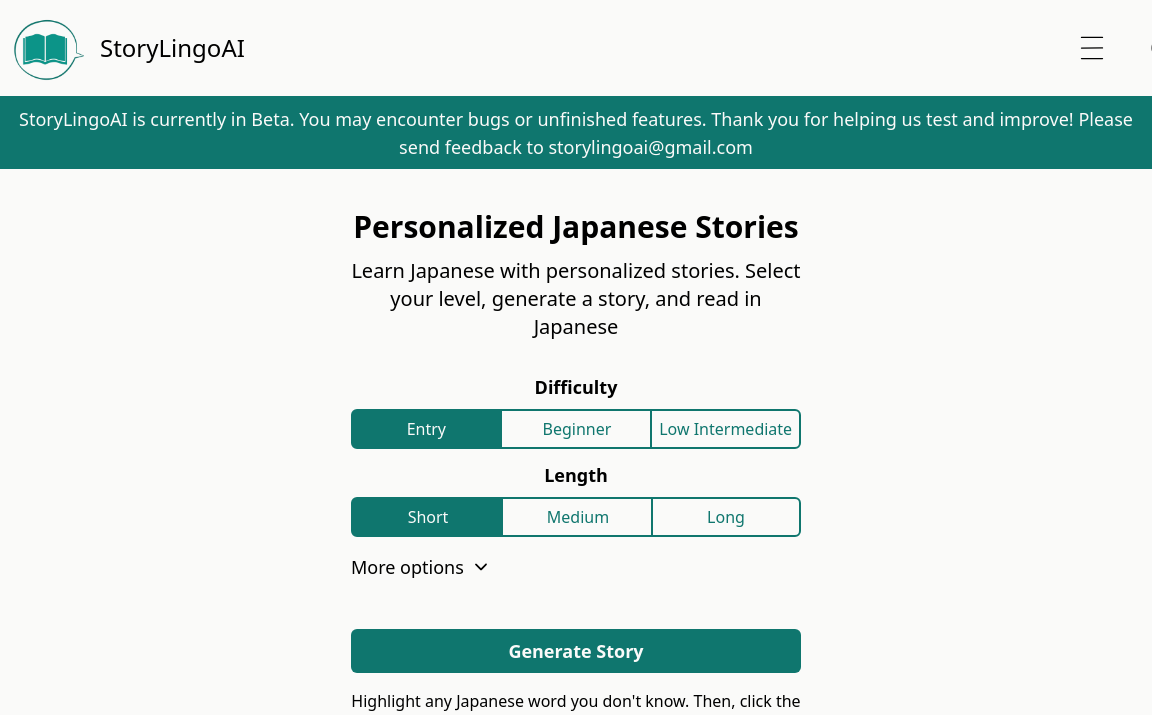
Test: Menu Options › x button closes words to learn modal
This screenshot has width=1152, height=715.
Step 1. Click the element with id "menu-burger-id" → (1092, 48), box [1077,33,1107,63]
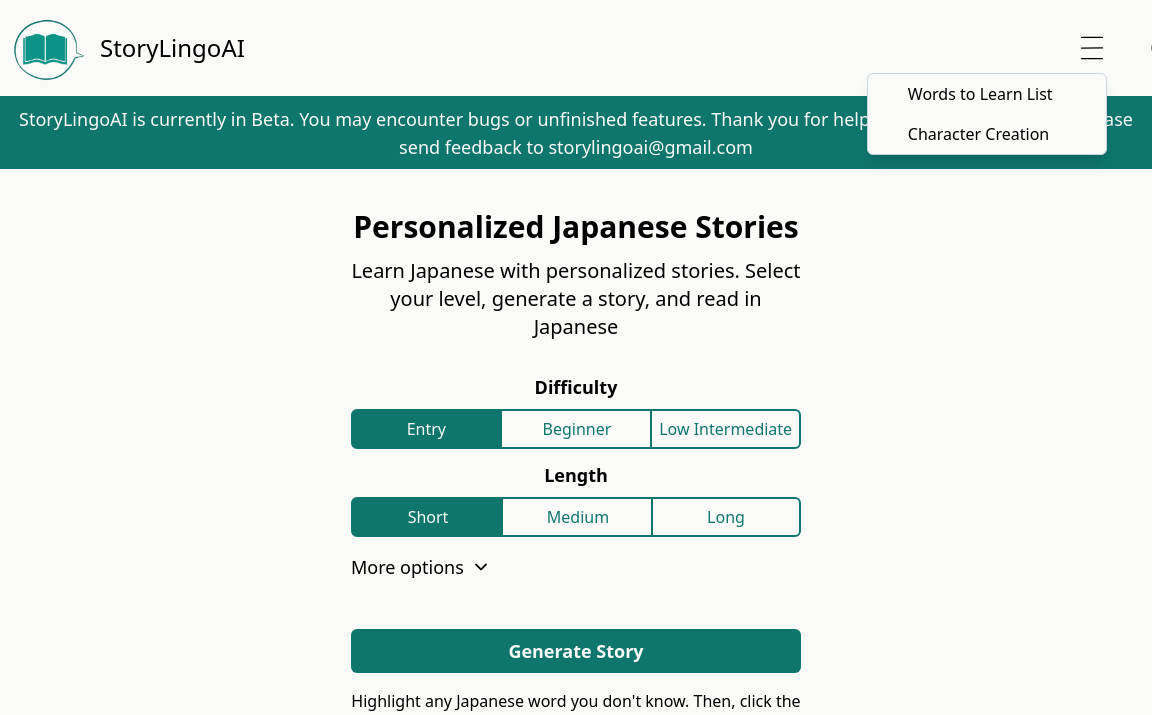
Step 2. Click the text with id "words-learn-id" → (981, 94), box [908,83,1053,105]
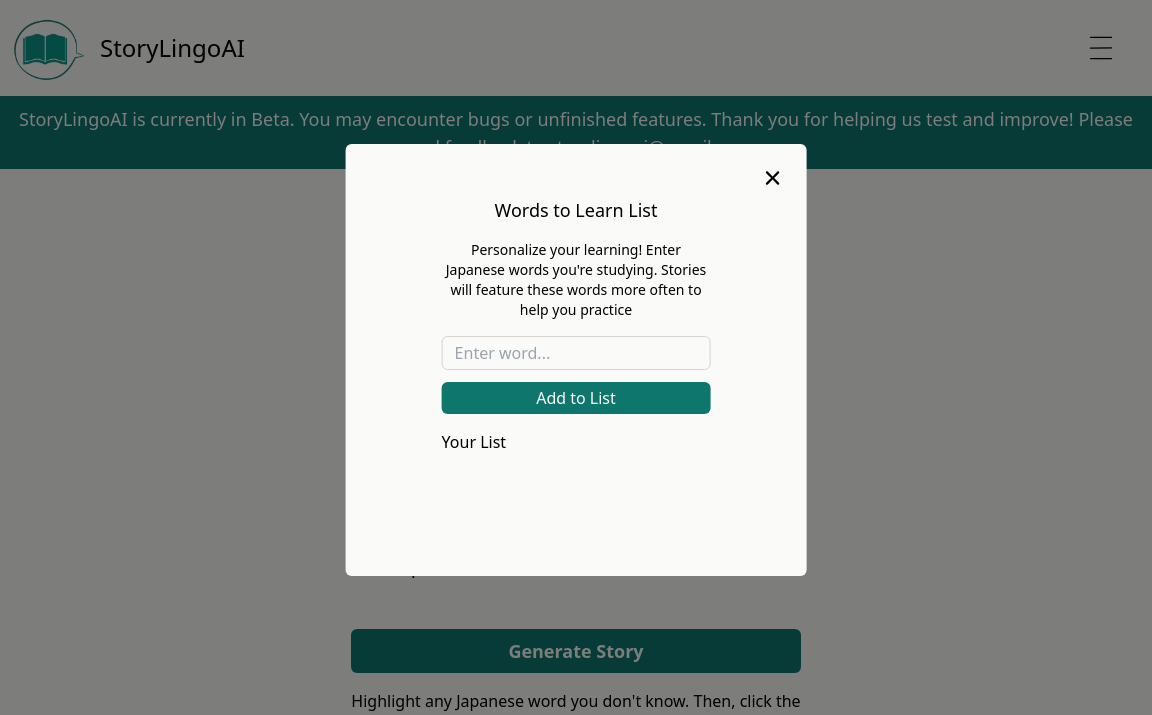
Step 3. Click the element with id "close-words-modal-button" → (772, 178), box [754,160,790,196]
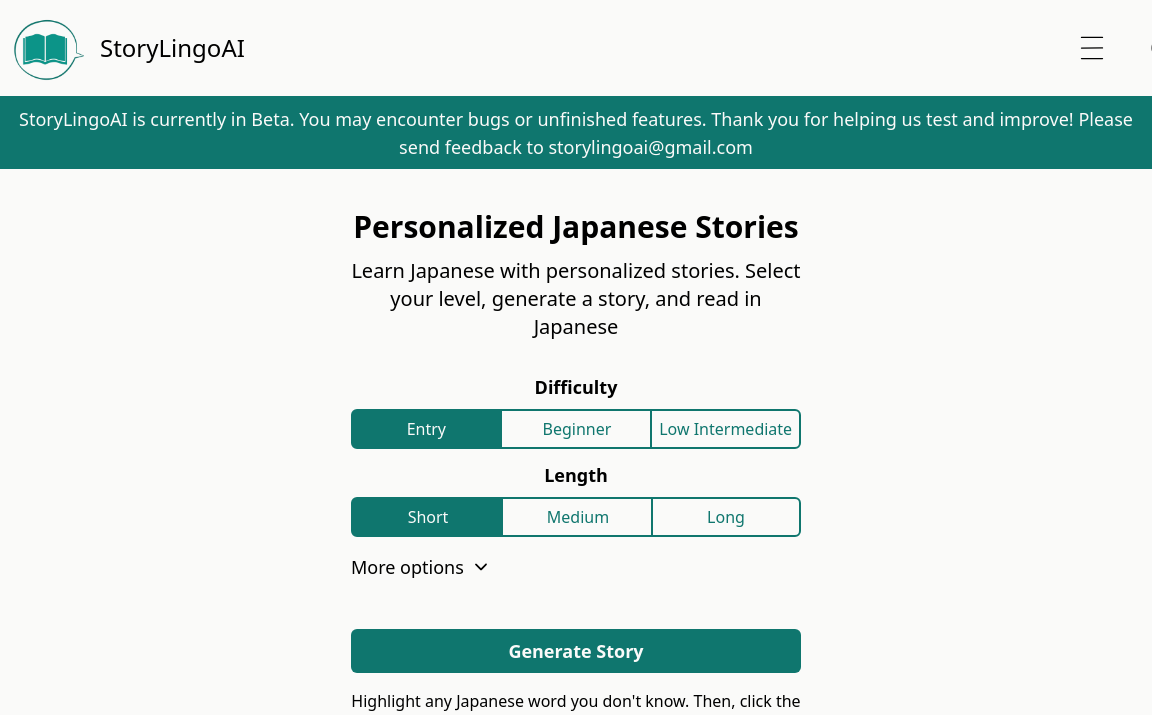
Result: the element with id "words-list-modal" is gone
